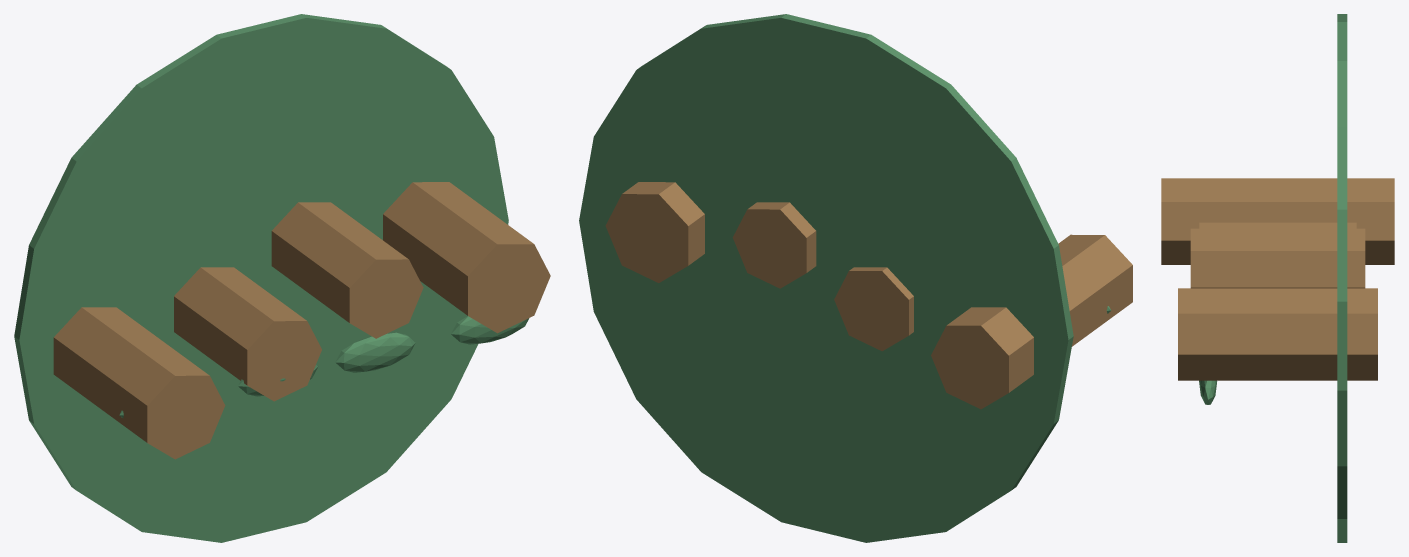
File: 02_display_prop_cluster.glb
3 renders of one model, left to right at view 1: azimuth 30°, elevation 25°; view 2: azimuth 150°, elevation 25°; view 3: azimuth 270°, elevation 25°, orthographic. The views are drawn at different scales.
Visible parts, largest first — view 1: scatter_base, root_stump_0, root_stump_3, root_stump_2, root_stump_1, moss_2, moss_3; view 2: scatter_base, root_stump_0, root_stump_3, root_stump_2, root_stump_1; view 3: root_stump_3, root_stump_0, root_stump_2, scatter_base, root_stump_1, moss_3.
Boxes of the visible parts, left/top/right/bottom form: scatter_base: left=14, top=14, right=508, bottom=542; root_stump_0: left=53, top=307, right=225, bottom=459; root_stump_3: left=383, top=182, right=550, bottom=333; root_stump_2: left=271, top=202, right=423, bottom=338; root_stump_1: left=174, top=267, right=321, bottom=401; moss_2: left=335, top=332, right=415, bottom=372; moss_3: left=451, top=316, right=529, bottom=344; scatter_base: left=579, top=14, right=1073, bottom=542; root_stump_0: left=931, top=234, right=1132, bottom=409; root_stump_3: left=605, top=182, right=704, bottom=282; root_stump_2: left=732, top=202, right=816, bottom=288; root_stump_1: left=834, top=267, right=913, bottom=351; root_stump_3: left=1178, top=288, right=1377, bottom=380; root_stump_0: left=1161, top=178, right=1394, bottom=264; root_stump_2: left=1190, top=228, right=1365, bottom=288; scatter_base: left=1337, top=14, right=1347, bottom=542; root_stump_1: left=1199, top=222, right=1356, bottom=228; moss_3: left=1199, top=380, right=1217, bottom=404.
Size of the model in its own units: 1.9 by 1.87 by 0.8341.
